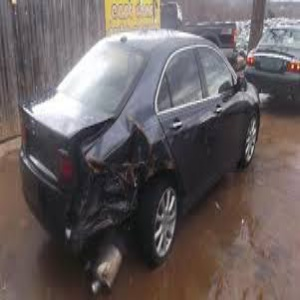bumper: (60, 182, 135, 245)
